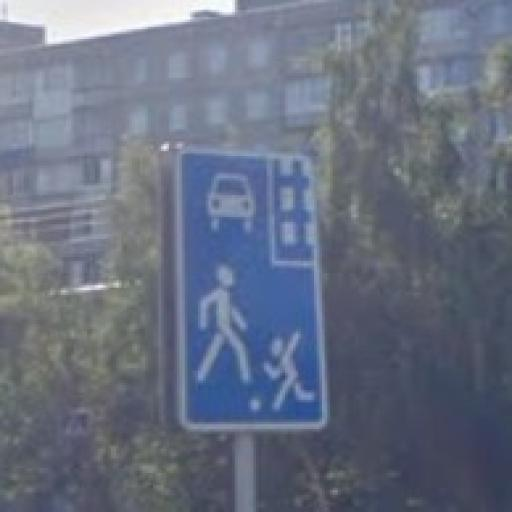traffic_sign: (172, 143, 331, 433)
